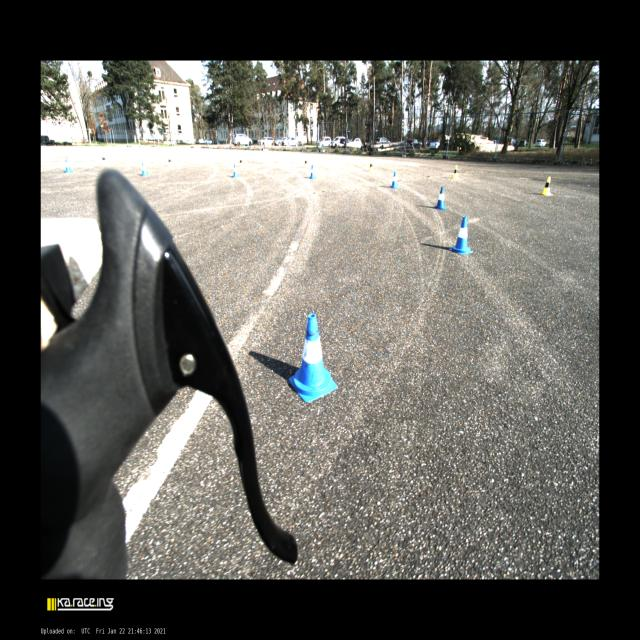blue_cone: (288, 314, 338, 403), (449, 216, 473, 255), (435, 187, 446, 210), (391, 172, 398, 188), (65, 158, 73, 172), (309, 164, 316, 179), (231, 164, 239, 177), (142, 162, 149, 176)
yellow_cone: (541, 177, 553, 196), (452, 166, 460, 180), (368, 161, 374, 172)
